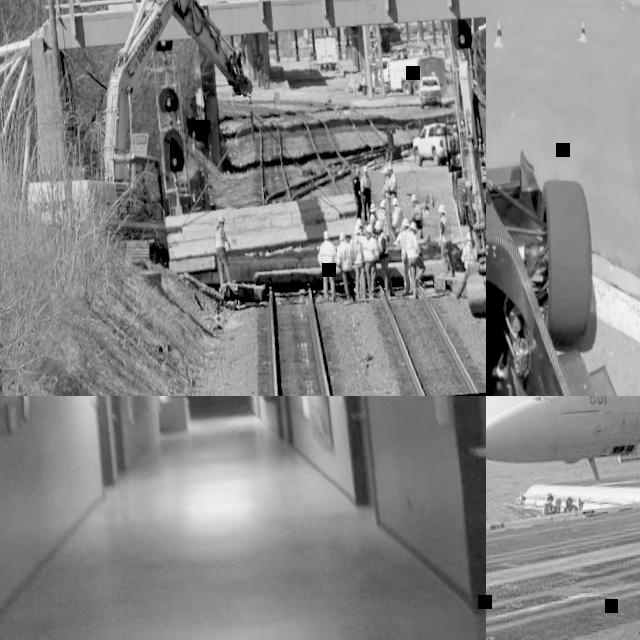Hardhat: (368, 201, 377, 211), (437, 203, 446, 212), (372, 218, 380, 228), (322, 228, 330, 238), (401, 217, 409, 227), (338, 231, 346, 240), (364, 223, 372, 232), (390, 196, 398, 205), (409, 221, 417, 230), (544, 493, 553, 501), (465, 228, 471, 239), (564, 496, 573, 503), (381, 166, 389, 173), (361, 164, 368, 171), (409, 193, 416, 200), (218, 215, 225, 221), (379, 200, 385, 207), (355, 223, 361, 230), (387, 161, 393, 168), (452, 123, 457, 128), (356, 167, 360, 172)
NO-Safety Vest: (351, 174, 361, 193)
Person: (443, 227, 477, 299), (404, 216, 428, 298), (333, 231, 359, 303), (390, 217, 414, 295), (358, 223, 382, 298), (373, 218, 395, 298), (315, 229, 338, 301), (433, 202, 455, 276), (212, 215, 235, 285), (349, 227, 368, 302), (409, 191, 430, 238), (358, 164, 374, 221), (350, 166, 365, 222), (390, 196, 405, 238), (377, 198, 391, 240), (386, 159, 398, 197), (379, 164, 391, 199), (541, 492, 557, 515), (367, 201, 379, 224), (561, 497, 576, 512), (451, 122, 459, 142), (355, 216, 363, 227)
Safety Cone: (490, 19, 504, 51), (576, 18, 588, 45), (426, 188, 434, 207), (351, 81, 356, 98), (348, 71, 352, 90), (345, 80, 350, 92), (621, 0, 626, 8)
Safety Vest: (335, 239, 357, 269), (315, 240, 336, 267), (393, 228, 410, 259), (359, 232, 377, 260), (404, 229, 421, 257), (350, 233, 365, 263), (437, 213, 452, 242), (459, 240, 474, 268), (391, 204, 404, 232), (378, 208, 390, 237), (375, 229, 389, 253), (212, 225, 224, 249), (358, 173, 371, 194), (387, 171, 397, 191), (412, 202, 423, 220), (380, 174, 389, 196), (368, 212, 376, 223), (453, 130, 459, 141)
machinery: (5, 0, 264, 274), (443, 50, 486, 317)
vehicle: (486, 71, 638, 396), (370, 51, 447, 98), (409, 118, 459, 166), (311, 35, 337, 71), (416, 74, 444, 107)
